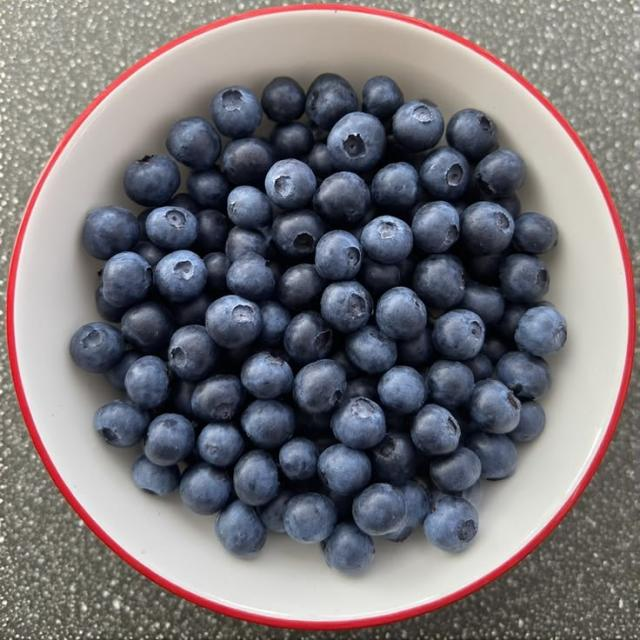blueberry: (327, 112, 386, 172), (314, 171, 371, 227), (425, 495, 478, 552), (206, 295, 262, 348), (82, 207, 139, 259), (167, 325, 219, 381), (215, 500, 266, 557), (167, 117, 221, 170), (460, 201, 514, 254), (331, 397, 386, 449), (306, 74, 357, 130), (293, 360, 346, 413), (272, 210, 326, 262), (414, 254, 465, 309), (70, 322, 125, 373), (102, 252, 153, 307), (353, 483, 406, 535), (121, 301, 173, 354), (420, 147, 471, 201), (124, 156, 179, 206), (154, 250, 206, 302), (321, 281, 373, 333), (240, 400, 295, 449), (386, 480, 430, 541), (144, 414, 195, 466), (210, 87, 262, 138), (180, 462, 231, 514), (432, 309, 485, 359), (284, 493, 337, 543), (393, 101, 444, 152), (323, 522, 374, 573), (265, 159, 316, 210), (376, 287, 426, 339), (446, 109, 496, 161), (496, 352, 551, 399), (284, 312, 333, 364), (514, 307, 566, 356), (360, 215, 413, 263), (473, 149, 526, 197), (371, 431, 417, 486), (411, 404, 460, 455), (222, 138, 274, 186), (412, 200, 459, 253), (240, 352, 293, 399), (94, 400, 148, 446), (234, 450, 278, 506), (425, 360, 474, 410), (466, 431, 517, 479), (192, 375, 244, 422), (500, 254, 549, 303), (346, 326, 397, 373), (372, 162, 418, 213), (227, 253, 275, 301), (315, 230, 361, 280), (430, 447, 481, 492), (125, 356, 169, 408), (378, 366, 425, 414), (197, 423, 244, 467), (261, 77, 306, 122), (460, 282, 505, 325), (132, 455, 180, 495), (187, 167, 231, 210), (227, 186, 272, 228), (362, 76, 404, 120), (513, 213, 557, 253), (256, 487, 294, 533), (279, 438, 319, 481), (168, 291, 214, 326), (359, 257, 400, 296), (270, 122, 313, 159), (193, 209, 228, 254), (296, 409, 334, 450), (509, 401, 546, 442), (225, 227, 267, 263), (259, 300, 291, 347), (105, 351, 141, 391), (397, 327, 433, 367), (165, 379, 196, 419), (466, 253, 504, 285), (204, 251, 230, 297), (496, 302, 526, 339), (306, 142, 335, 179), (330, 349, 362, 380), (481, 332, 512, 364), (133, 240, 166, 268), (487, 194, 521, 219), (343, 377, 377, 402), (463, 353, 493, 381), (326, 490, 353, 521), (166, 193, 202, 213), (137, 207, 153, 239)
